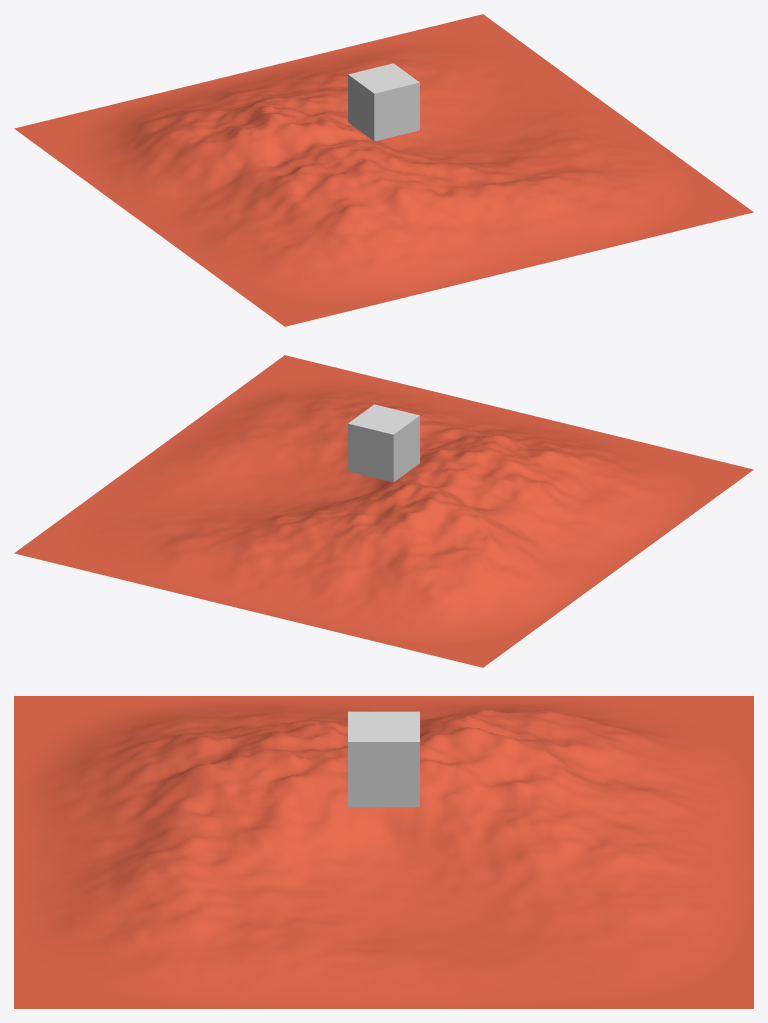
Rendered from testSBsite.glb.
3 views of the same model, one above another, from view 1: azimuth 30°, elevation 25°; view 2: azimuth 150°, elevation 25°; view 3: azimuth 270°, elevation 25° (orthographic). The views are drawn at different scales.
Visible parts, largest first — view 1: Landscape, Cube; view 2: Landscape, Cube; view 3: Landscape, Cube.
Boxes of the visible parts, box(x1,y1,x2,y2) form: Landscape: box(14, 14, 753, 326); Cube: box(348, 63, 419, 141); Landscape: box(14, 355, 753, 667); Cube: box(348, 404, 419, 482); Landscape: box(14, 696, 753, 1008); Cube: box(348, 711, 419, 807).
Size of the model in its own units: 20.55 by 3.85 by 20.55.
